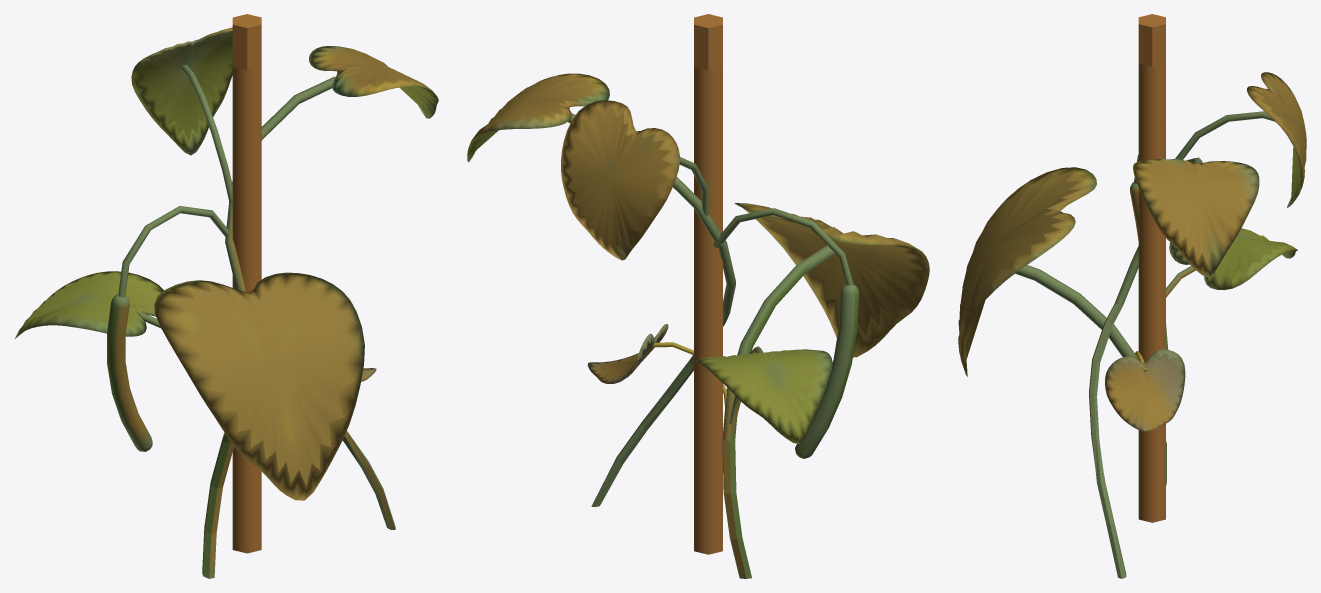
Rendered from 小黃瓜往生.FBX.
The picture shows the model from 3 angles, left to right: view 1: azimuth 30°, elevation 25°; view 2: azimuth 150°, elevation 25°; view 3: azimuth 270°, elevation 25°; orthographic projection. The views are drawn at different scales.
Parts seen in each view (by area): view 1: Cylinder001; view 2: Cylinder001; view 3: Cylinder001.
Boxes of the visible parts, bbox=[...] form: Cylinder001: bbox=[14, 14, 438, 578]; Cylinder001: bbox=[467, 14, 929, 578]; Cylinder001: bbox=[958, 14, 1306, 578].
Bounding box in the file's own units: 58.84 × 82.41 × 50.48.
2 materials, 2 textured.
